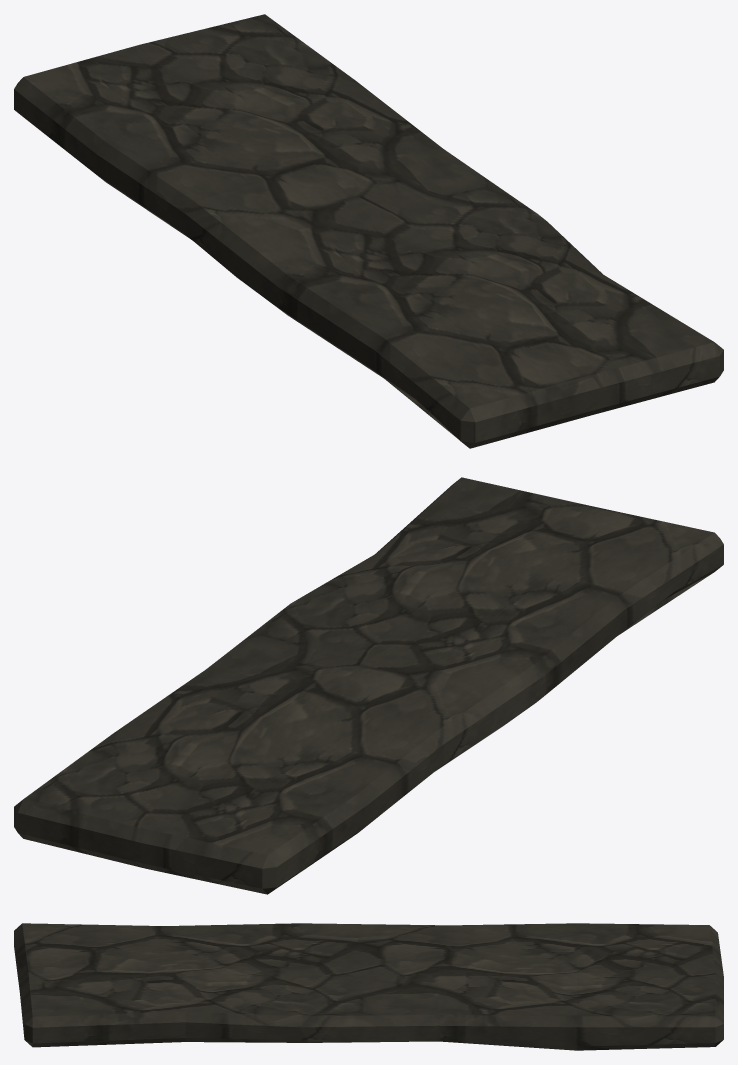
File: StonePlatform.fbx
The picture shows the model from 3 angles, top to bottom: view 1: azimuth 30°, elevation 25°; view 2: azimuth 150°, elevation 25°; view 3: azimuth 270°, elevation 25°; orthographic projection. The views are drawn at different scales.
Parts seen in each view (by area): view 1: Cube; view 2: Cube; view 3: Cube.
Part boxes in pixels (x1,y1,x2,y2): Cube: (14,14,723,448); Cube: (14,477,723,894); Cube: (14,923,723,1050).
Bounding box in the file's own units: 246 × 50.19 × 733.
1 material, 1 textured.
